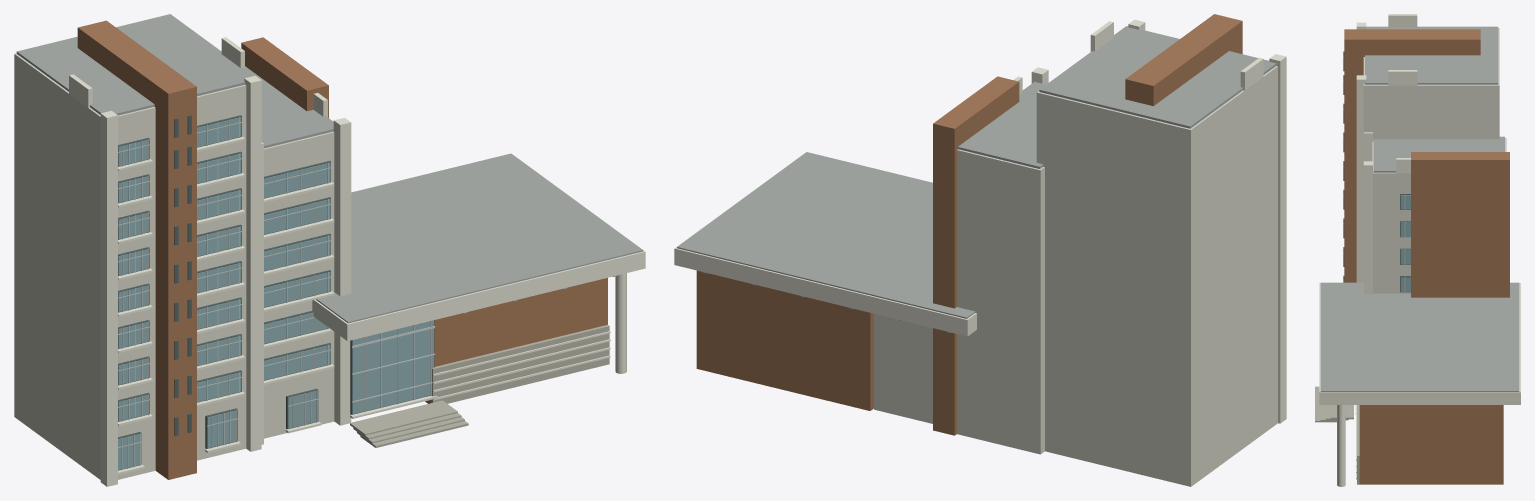
The model's file is buildings-14-far.glb.
3 views of the same model, side by side, from view 1: azimuth 30°, elevation 25°; view 2: azimuth 150°, elevation 25°; view 3: azimuth 270°, elevation 25° (orthographic). The views are drawn at different scales.
Visible parts, largest first — view 1: 逸夫科技楼 · Science warm stone.001, 逸夫科技楼 · Science roof membrane.001, 逸夫科技楼 · Science pale limestone edges.001, 逸夫科技楼 · Science terracotta brick.001, 逸夫科技楼 · Science pale blue glazing.001, 逸夫科技楼 · Science banded sandstone base.001, 逸夫科技楼 · Science window aluminium.001, 逸夫科技楼 · Science deep window recess.001; view 2: 逸夫科技楼 · Science warm stone.001, 逸夫科技楼 · Science roof membrane.001, 逸夫科技楼 · Science terracotta brick.001, 逸夫科技楼 · Science pale limestone edges.001; view 3: 逸夫科技楼 · Science terracotta brick.001, 逸夫科技楼 · Science roof membrane.001, 逸夫科技楼 · Science warm stone.001, 逸夫科技楼 · Science pale limestone edges.001, 逸夫科技楼 · Science banded sandstone base.001, 逸夫科技楼 · Science pale blue glazing.001, 逸夫科技楼 · Science deep window recess.001.
Part boxes in pixels (x1,y1,x2,y2): 逸夫科技楼 · Science warm stone.001: (14, 53, 334, 479); 逸夫科技楼 · Science roof membrane.001: (16, 14, 643, 323); 逸夫科技楼 · Science pale limestone edges.001: (69, 37, 645, 486); 逸夫科技楼 · Science terracotta brick.001: (77, 20, 607, 479); 逸夫科技楼 · Science pale blue glazing.001: (118, 117, 433, 470); 逸夫科技楼 · Science banded sandstone base.001: (350, 275, 616, 447); 逸夫科技楼 · Science window aluminium.001: (118, 117, 435, 470); 逸夫科技楼 · Science deep window recess.001: (118, 115, 434, 470); 逸夫科技楼 · Science warm stone.001: (874, 66, 1277, 486); 逸夫科技楼 · Science roof membrane.001: (677, 26, 1276, 318); 逸夫科技楼 · Science terracotta brick.001: (696, 14, 1242, 435); 逸夫科技楼 · Science pale limestone edges.001: (674, 19, 1286, 423); 逸夫科技楼 · Science terracotta brick.001: (1344, 29, 1509, 484); 逸夫科技楼 · Science roof membrane.001: (1320, 26, 1519, 391); 逸夫科技楼 · Science warm stone.001: (1363, 28, 1506, 293); 逸夫科技楼 · Science pale limestone edges.001: (1319, 14, 1520, 486); 逸夫科技楼 · Science banded sandstone base.001: (1315, 386, 1359, 484); 逸夫科技楼 · Science pale blue glazing.001: (1400, 195, 1410, 291); 逸夫科技楼 · Science deep window recess.001: (1343, 51, 1410, 292).
Size of the model in its own units: 46.5 by 33.4 by 21.45.
